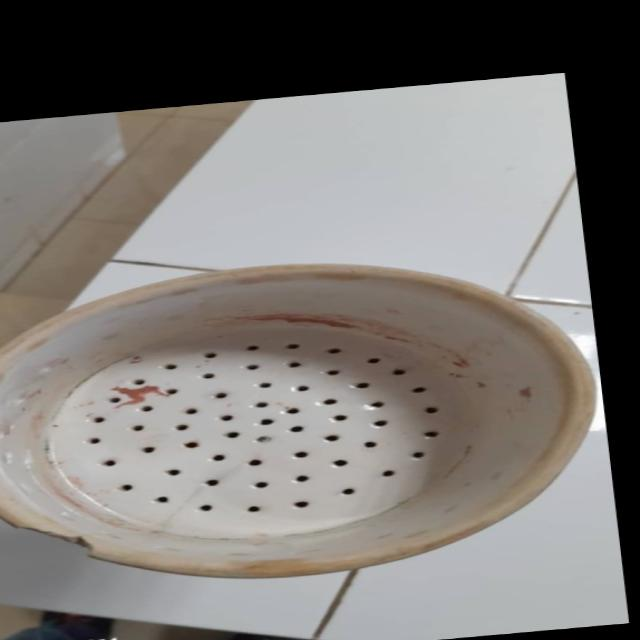Bunchen funnel: (0, 235, 609, 606)
